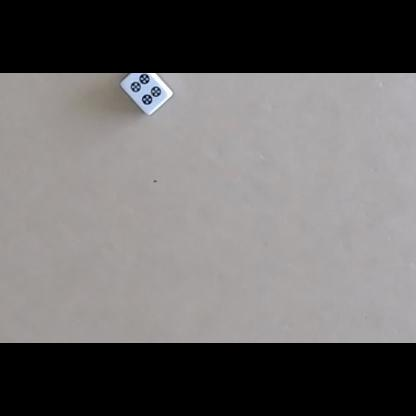4p: (130, 73, 161, 105)
